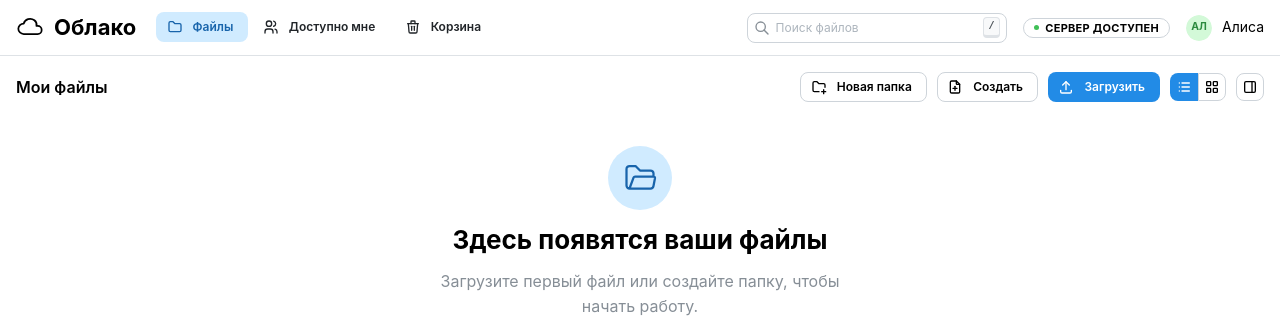
Scenario: header search › opens /search on Enter and is focused by /
# "/" from the page focuses it, without typing itself.
Type keys "/"
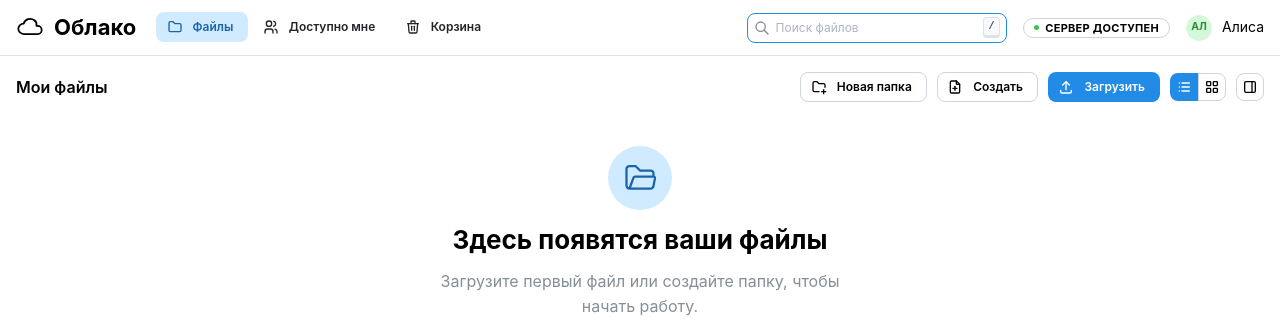
In the search field labelled "Поиск файлов": (877, 28) [747, 12, 1007, 42], type "отчёт за"
Then press Enter
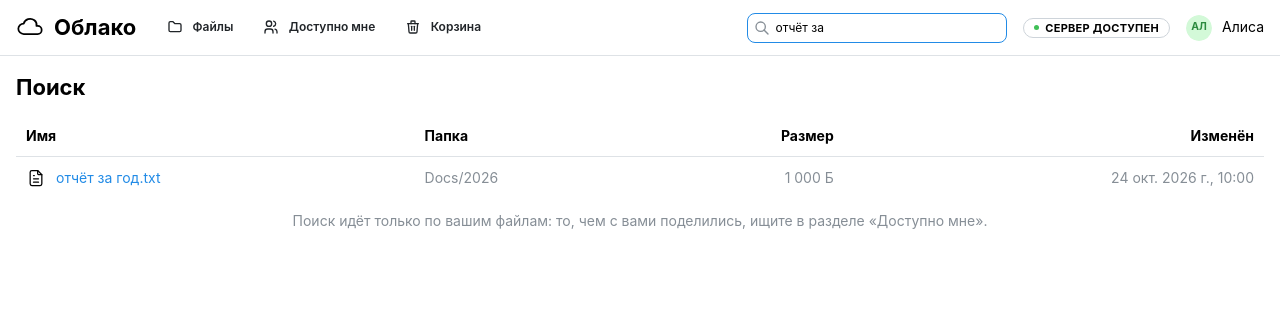
Check: the button "отчёт за год.txt" is shown, box [56, 168, 160, 188]
